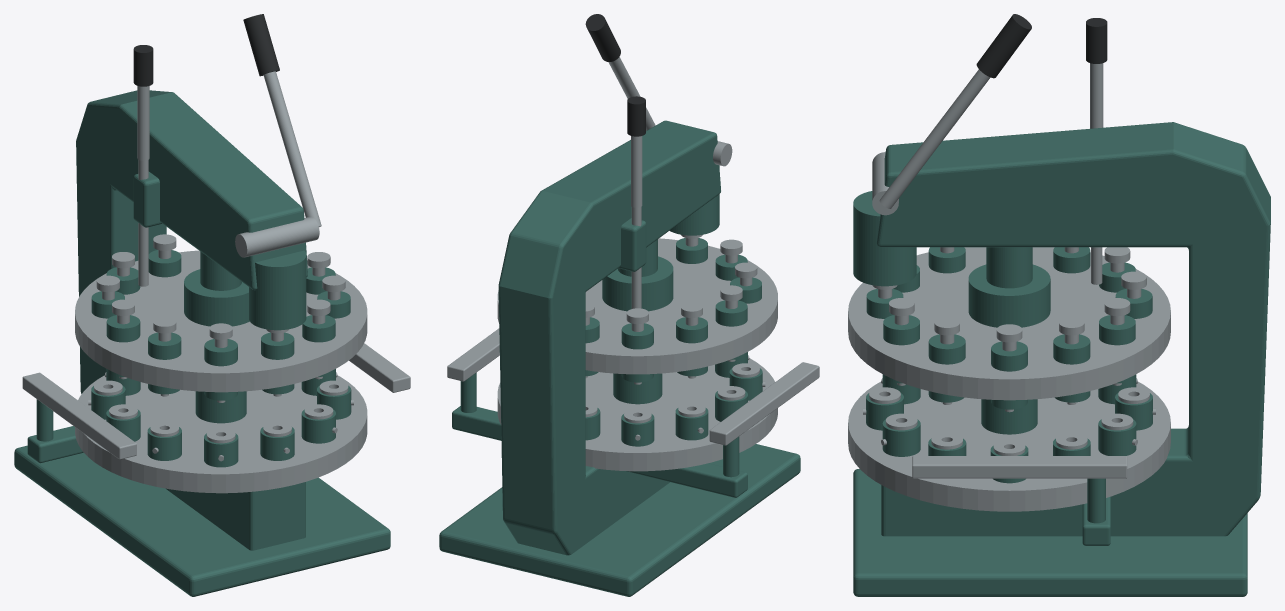
The model's file is full.glb.
3 renders of one model, left to right at view 1: azimuth 30°, elevation 25°; view 2: azimuth 150°, elevation 25°; view 3: azimuth 270°, elevation 25°, orthographic. The views are drawn at different scales.
Visible parts, largest first — view 1: Deep C casting, Machine mounting base, Upper turret, Lower turret, Front ram guide, Side gauge rail -1, Upper hub, Operating arm, Cam pivot, Side gauge rail 1, Index mounting lug, Operating grip (+22 smaller); view 2: Deep C casting, Machine mounting base, Upper turret, Lower turret, Side gauge rail -1, Upper hub, Side table bracket -1, Side gauge rail 1, Index mounting lug, Side table bracket 1, Central turret column, Front ram guide (+17 smaller); view 3: Deep C casting, Machine mounting base, Upper turret, Lower turret, Side gauge rail 1, Upper hub, Front ram guide, Operating arm, Hub support, Operating grip, Central turret column, Upper punch sleeve 3 (+18 smaller).
Part boxes in pixels (x1=…): Deep C casting: x1=76, y1=90, x2=307, y2=550; Machine mounting base: x1=14, y1=445, x2=390, y2=596; Upper turret: x1=75, y1=250, x2=367, y2=392; Lower turret: x1=75, y1=375, x2=367, y2=493; Front ram guide: x1=249, y1=250, x2=306, y2=330; Side gauge rail -1: x1=22, y1=372, x2=136, y2=459; Upper hub: x1=184, y1=269, x2=249, y2=326; Operating arm: x1=263, y1=71, x2=321, y2=227; Cam pivot: x1=235, y1=217, x2=319, y2=257; Side gauge rail 1: x1=349, y1=343, x2=410, y2=392; Index mounting lug: x1=133, y1=171, x2=162, y2=227; Operating grip: x1=243, y1=14, x2=279, y2=76; Deep C casting: x1=498, y1=120, x2=720, y2=555; Machine mounting base: x1=439, y1=444, x2=800, y2=596; Upper turret: x1=497, y1=238, x2=777, y2=374; Lower turret: x1=497, y1=358, x2=777, y2=471; Side gauge rail -1: x1=709, y1=362, x2=819, y2=445; Upper hub: x1=602, y1=256, x2=673, y2=311; Side table bracket -1: x1=625, y1=463, x2=747, y2=497; Side gauge rail 1: x1=447, y1=328, x2=499, y2=381; Index mounting lug: x1=618, y1=218, x2=646, y2=271; Side table bracket 1: x1=452, y1=406, x2=501, y2=440; Central turret column: x1=613, y1=373, x2=662, y2=404; Front ram guide: x1=669, y1=165, x2=719, y2=235; Deep C casting: x1=876, y1=122, x2=1270, y2=536; Machine mounting base: x1=853, y1=469, x2=1247, y2=596; Upper turret: x1=848, y1=247, x2=1170, y2=400; Lower turret: x1=848, y1=381, x2=1170, y2=511; Side gauge rail 1: x1=912, y1=456, x2=1127, y2=478; Upper hub: x1=968, y1=264, x2=1050, y2=327; Front ram guide: x1=853, y1=191, x2=916, y2=286; Operating arm: x1=879, y1=69, x2=990, y2=208; Hub support: x1=986, y1=247, x2=1032, y2=288; Operating grip: x1=976, y1=14, x2=1031, y2=78; Central turret column: x1=981, y1=399, x2=1037, y2=434; Upper punch sleeve 3: x1=991, y1=341, x2=1027, y2=409.
Bounding box in the file's own units: 0.74 × 1.18 × 0.825.
